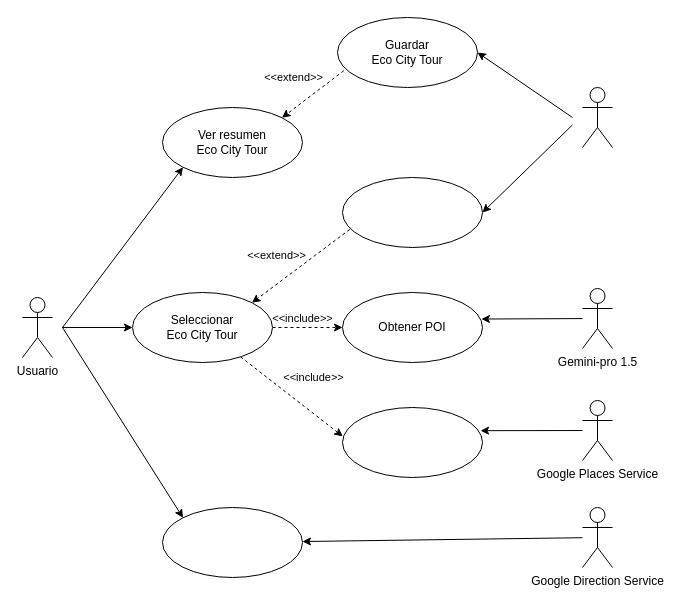
Some shapes in this 681 by 606 pixel diagram are drawn without their labels. Each missing label, with the centre of its shape:
"Cargar Eco City Tour" goes at (x=412, y=212).
"Firebase" goes at (x=597, y=117).
"Mejorar información POI" goes at (x=412, y=442).
"Navegar Mapa" goes at (x=232, y=542).
